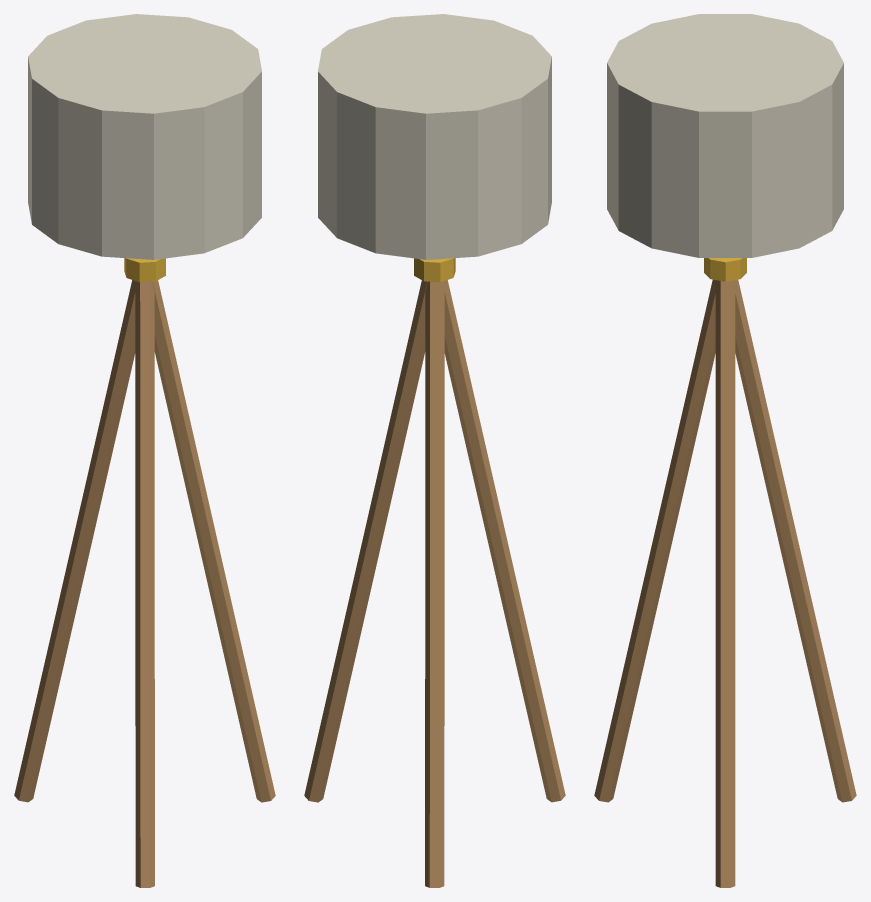
File: Furniture_FloorLamp.glb
3 views of the same model, side by side, from view 1: azimuth 30°, elevation 25°; view 2: azimuth 150°, elevation 25°; view 3: azimuth 270°, elevation 25° (orthographic).
Parts seen in each view (by area): view 1: Furniture_FloorLamp; view 2: Furniture_FloorLamp; view 3: Furniture_FloorLamp.
Part boxes in pixels (x1=…): Furniture_FloorLamp: x1=14, y1=14, x2=275, y2=887; Furniture_FloorLamp: x1=304, y1=14, x2=565, y2=887; Furniture_FloorLamp: x1=594, y1=14, x2=856, y2=887.
Bounding box in the file's own units: 0.4898 × 1.57 × 0.4872.
